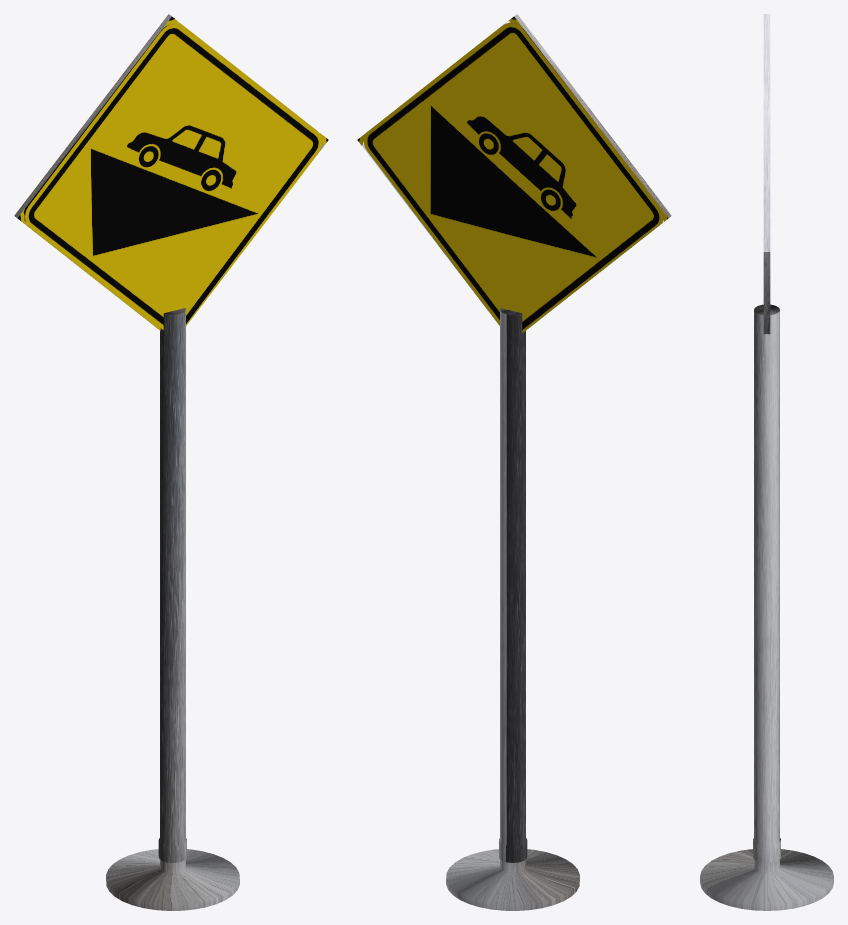
File: Trafficsignal1.fbx
The picture shows the model from 3 angles, left to right: view 1: azimuth 30°, elevation 25°; view 2: azimuth 150°, elevation 25°; view 3: azimuth 270°, elevation 25°; orthographic projection.
Parts seen in each view (by area): view 1: Trafficsignal1; view 2: Trafficsignal1; view 3: Trafficsignal1.
Part boxes in pixels (left/top/right/bottom): Trafficsignal1: left=14, top=14, right=328, bottom=910; Trafficsignal1: left=357, top=14, right=671, bottom=910; Trafficsignal1: left=700, top=14, right=833, bottom=910.
Size of the model in its own units: 195 by 519 by 72.6.
2 materials, 2 textured.
